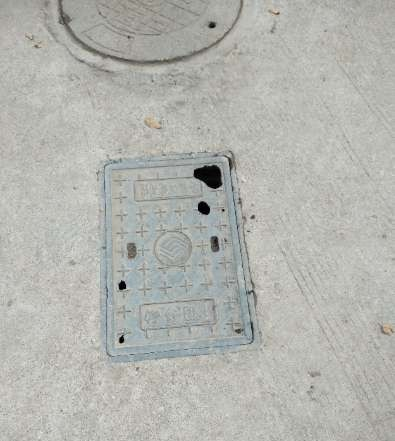well: (97, 153, 261, 361), (45, 0, 260, 69)
